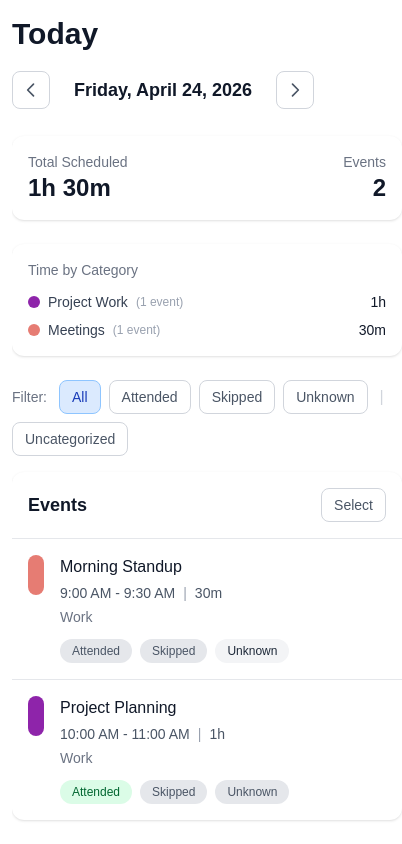
Test: DayView › selection mode › exits selection mode when Done button is clicked
Click the button "Select" at {"x": 354, "y": 505}, box [321, 488, 386, 522]
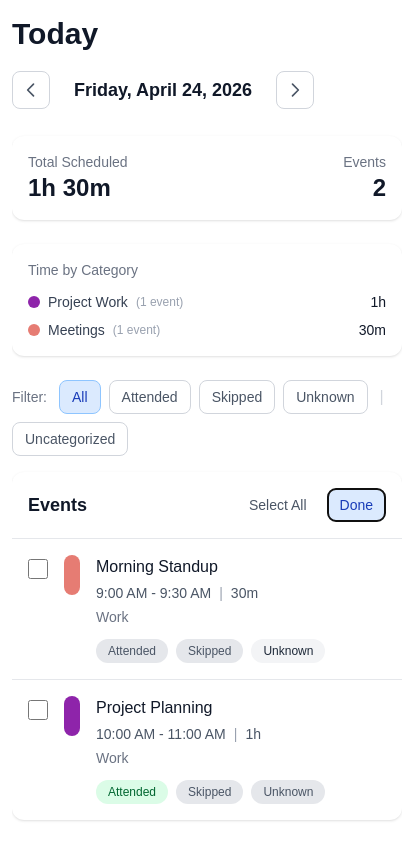
Result: the button "Done" is shown
Click the button "Done" at {"x": 356, "y": 505}, box [326, 488, 386, 522]
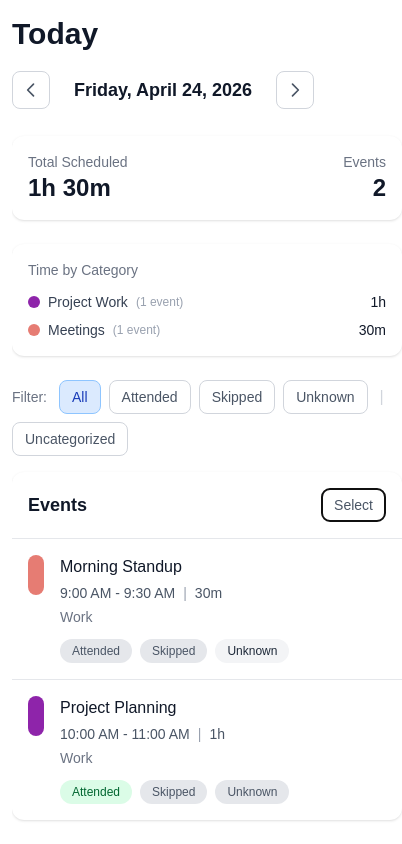
Result: the button "Select" is shown at [321, 488, 386, 522]
